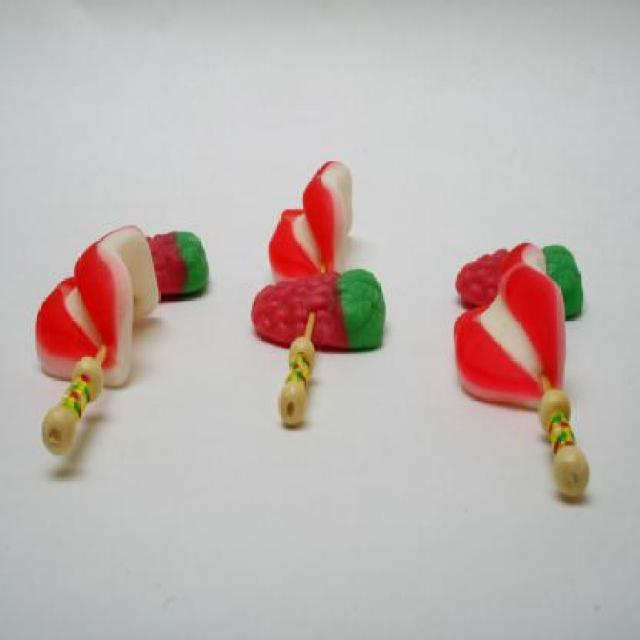Candy: (453, 233, 585, 502), (32, 222, 210, 390), (250, 157, 386, 351)
